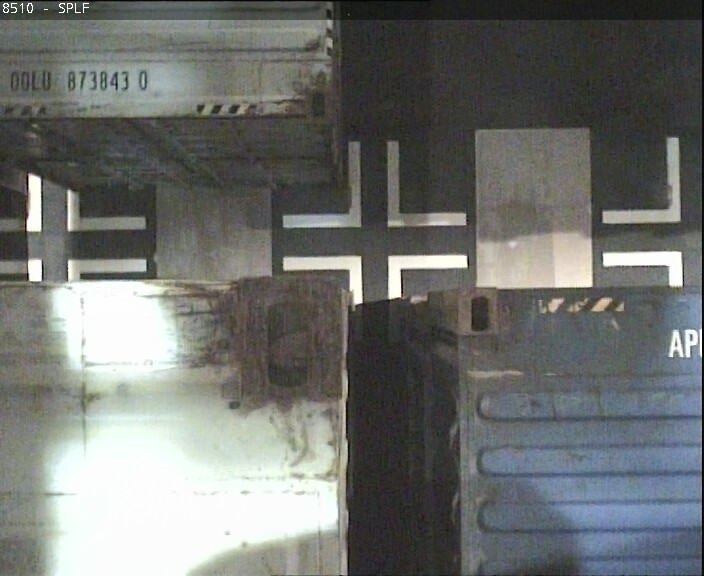groundmarker_1: (282, 142, 466, 232), (282, 257, 465, 347), (602, 133, 680, 295)
